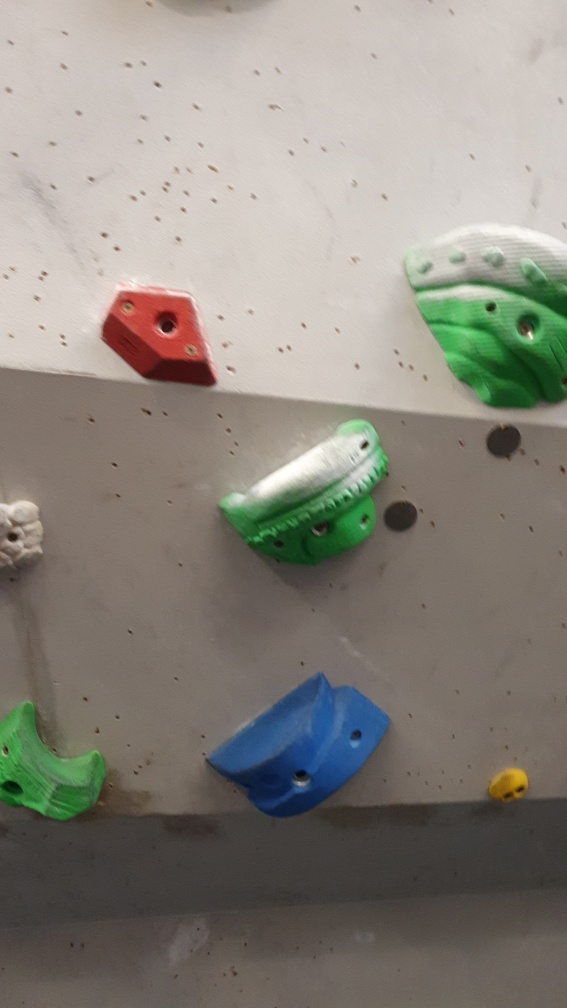Crimp: (96, 277, 224, 390)
Hand Start: (378, 492, 423, 537), (484, 420, 526, 463)
Jug: (400, 219, 567, 410), (217, 415, 388, 567), (1, 696, 115, 826)
Pinch: (203, 671, 395, 821)
